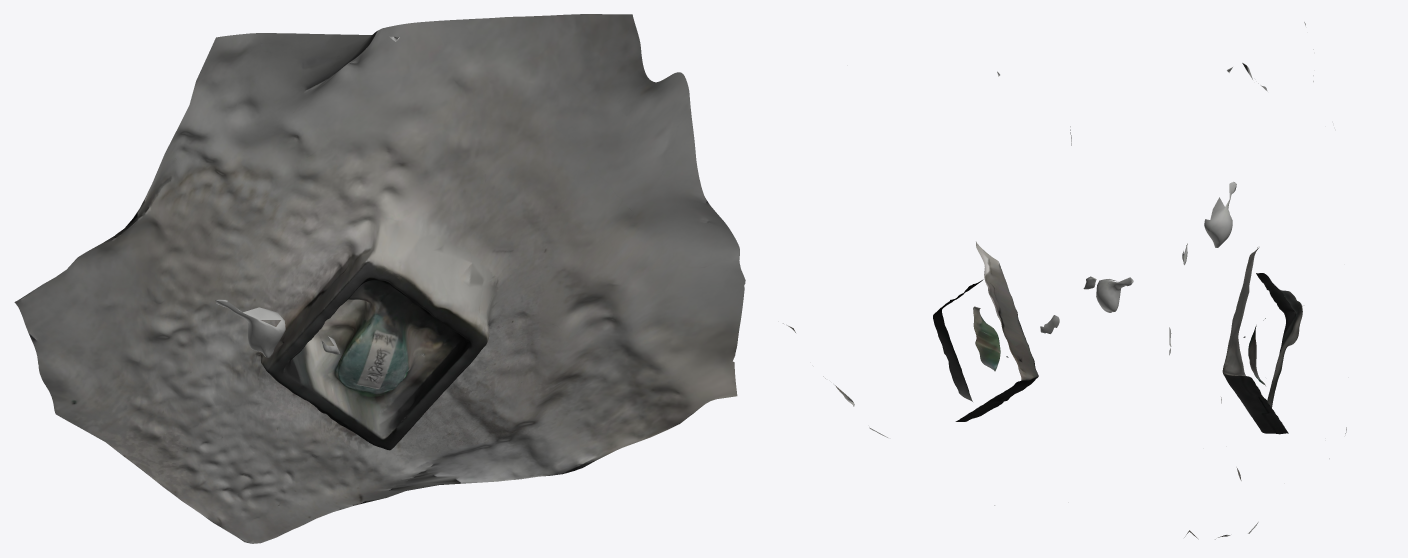
3 renders of one model, left to right at view 1: azimuth 30°, elevation 25°; view 2: azimuth 150°, elevation 25°; view 3: azimuth 270°, elevation 25°, orthographic. The views are drawn at different scales.
Size of the model in its own units: 2.57 by 2.22 by 1.01.
Materials: 1 (1 with a texture image).
